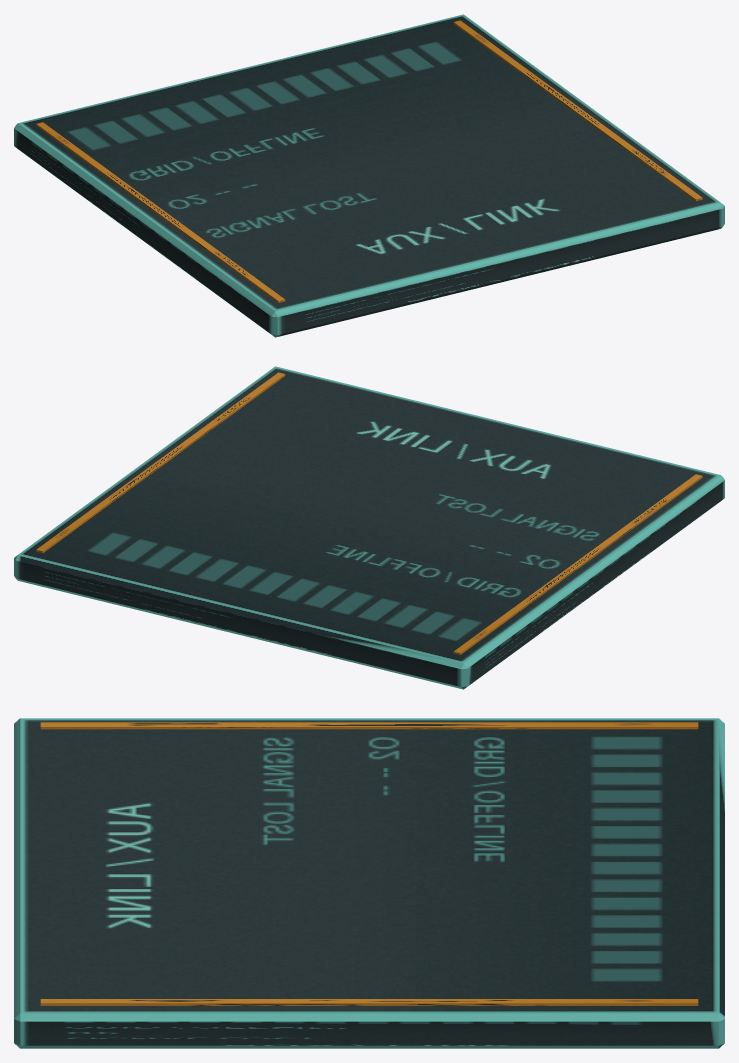
Rendered from roof_4m_LOD1.obj.
3 renders of one model, top to bottom at view 1: azimuth 30°, elevation 25°; view 2: azimuth 150°, elevation 25°; view 3: azimuth 270°, elevation 25°, orthographic. The views are drawn at different scales.
Parts seen in each view (by area): view 1: L02_roof_4m_LOD1; view 2: L02_roof_4m_LOD1; view 3: L02_roof_4m_LOD1.
Part boxes in pixels (box(x1,y1,x2,y2)): L02_roof_4m_LOD1: box(14, 14, 724, 337); L02_roof_4m_LOD1: box(14, 366, 724, 689); L02_roof_4m_LOD1: box(14, 718, 724, 1048).
Size of the model in its own units: 4 by 0.238 by 4.
Materials: 1 (1 with a texture image).
